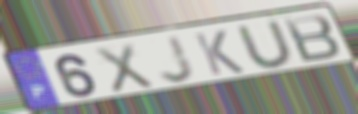6: (53, 53, 99, 99)
B: (280, 13, 343, 65)
J: (157, 33, 199, 84)
K: (191, 28, 248, 77)
U: (233, 18, 298, 69)
X: (92, 42, 157, 95)
